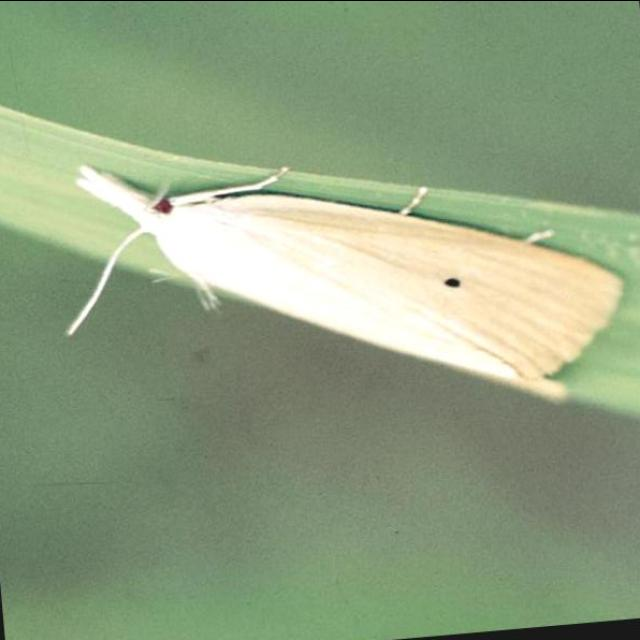stem borer: (68, 165, 622, 396)
